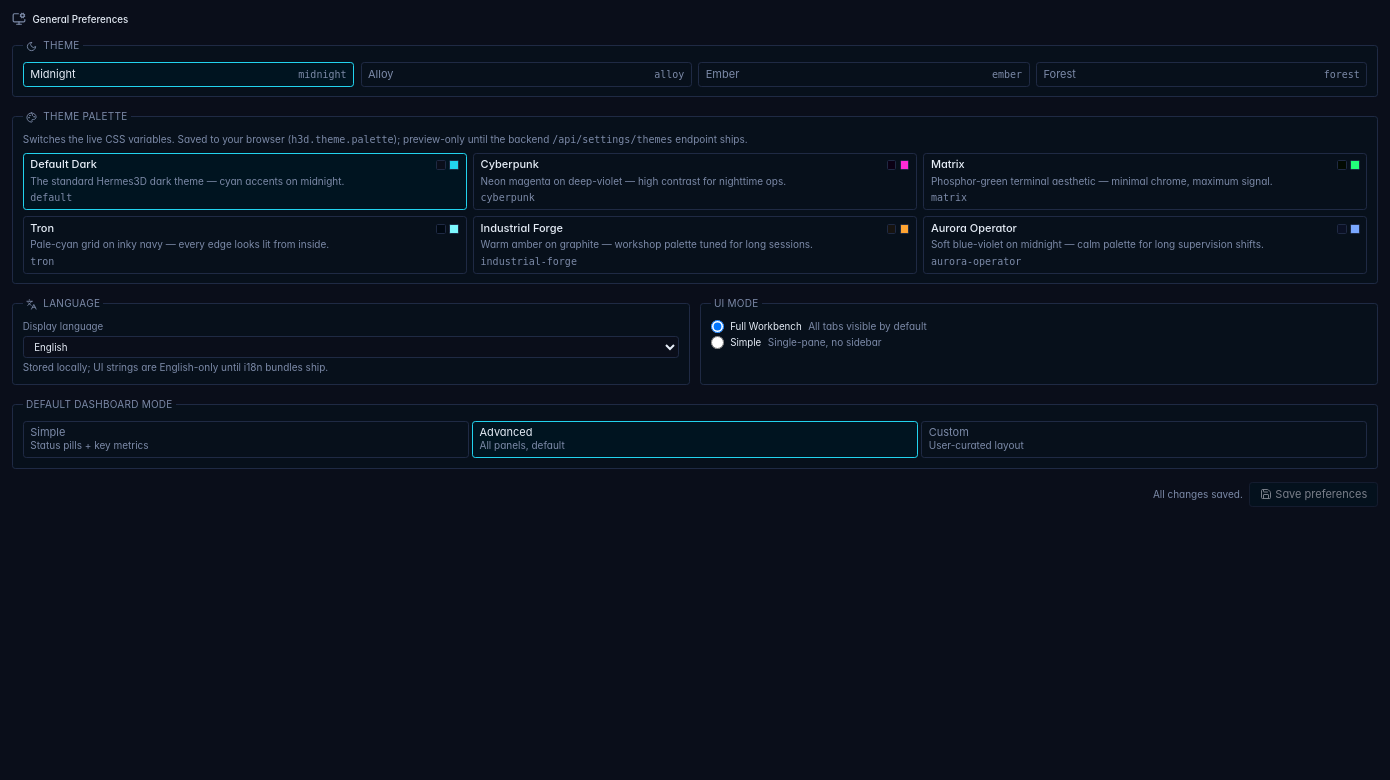
Test: GeneralSubtab › persists theme via saveSettings and writes prefs to localStorage
The image size is (1390, 780).
Expected: the button with test id "settings-general-save" is shown, [1249, 482, 1378, 507]
Click the radio button with test id "settings-general-theme-forest" at (1060, 74), box [1036, 62, 1367, 87]
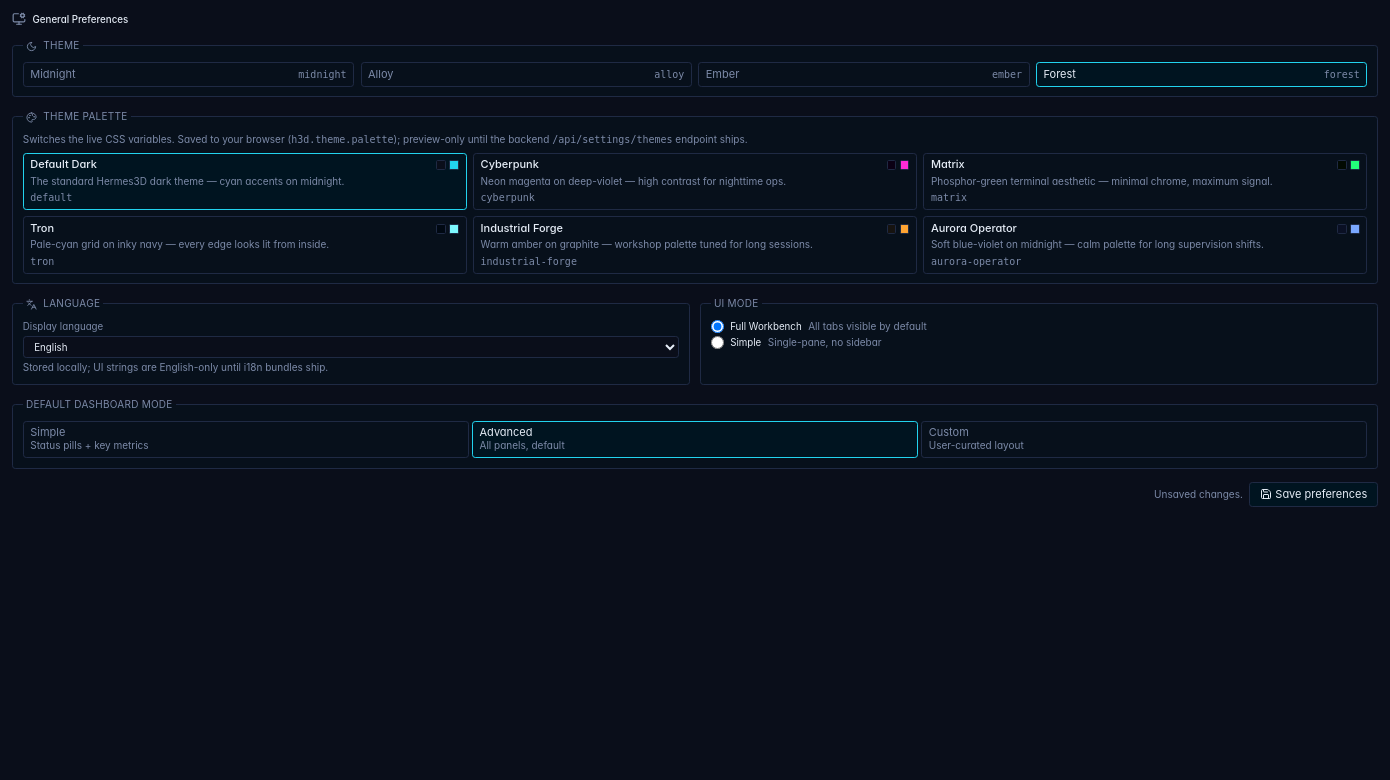
Select "Español" in the dropdown with test id "settings-general-language" at (351, 347), box [23, 336, 679, 358]
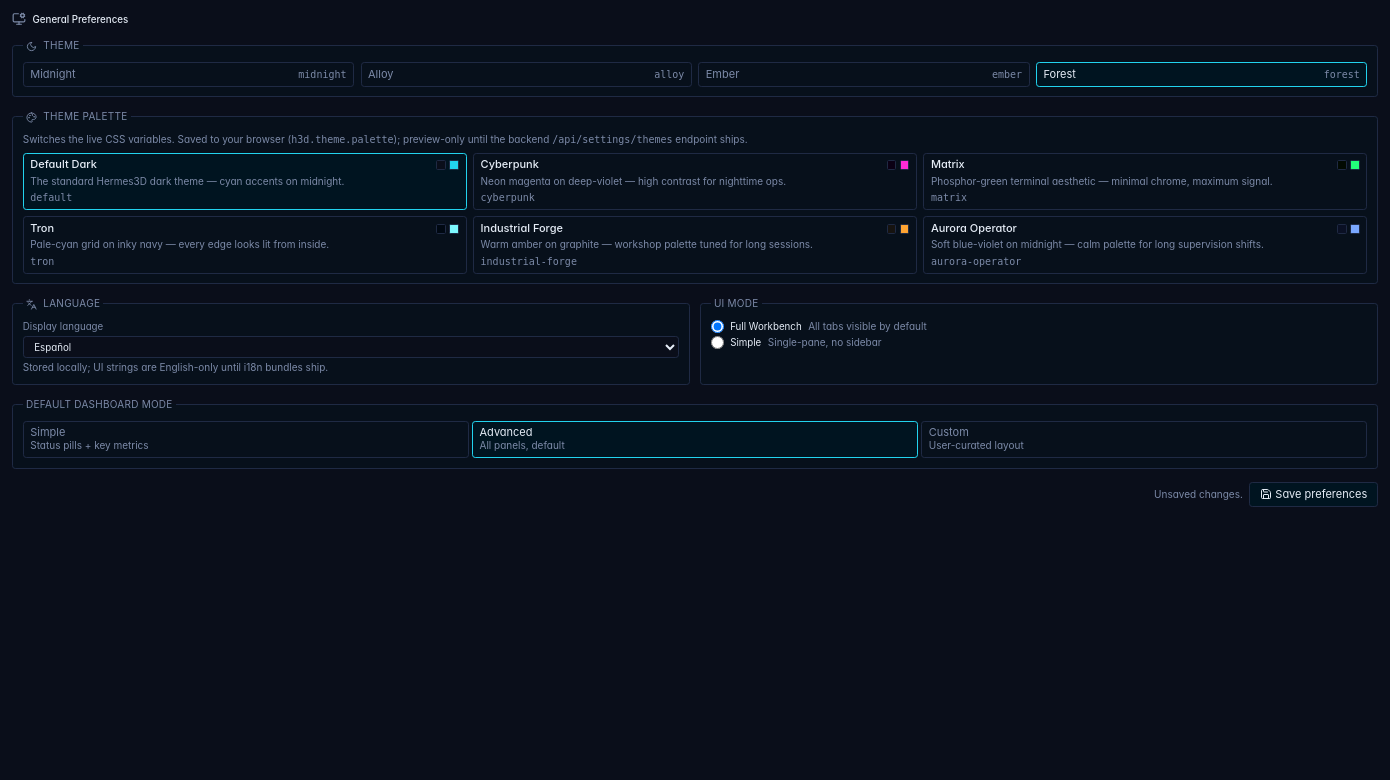
Click the button with test id "settings-general-save" at (1314, 494), box [1249, 482, 1378, 507]
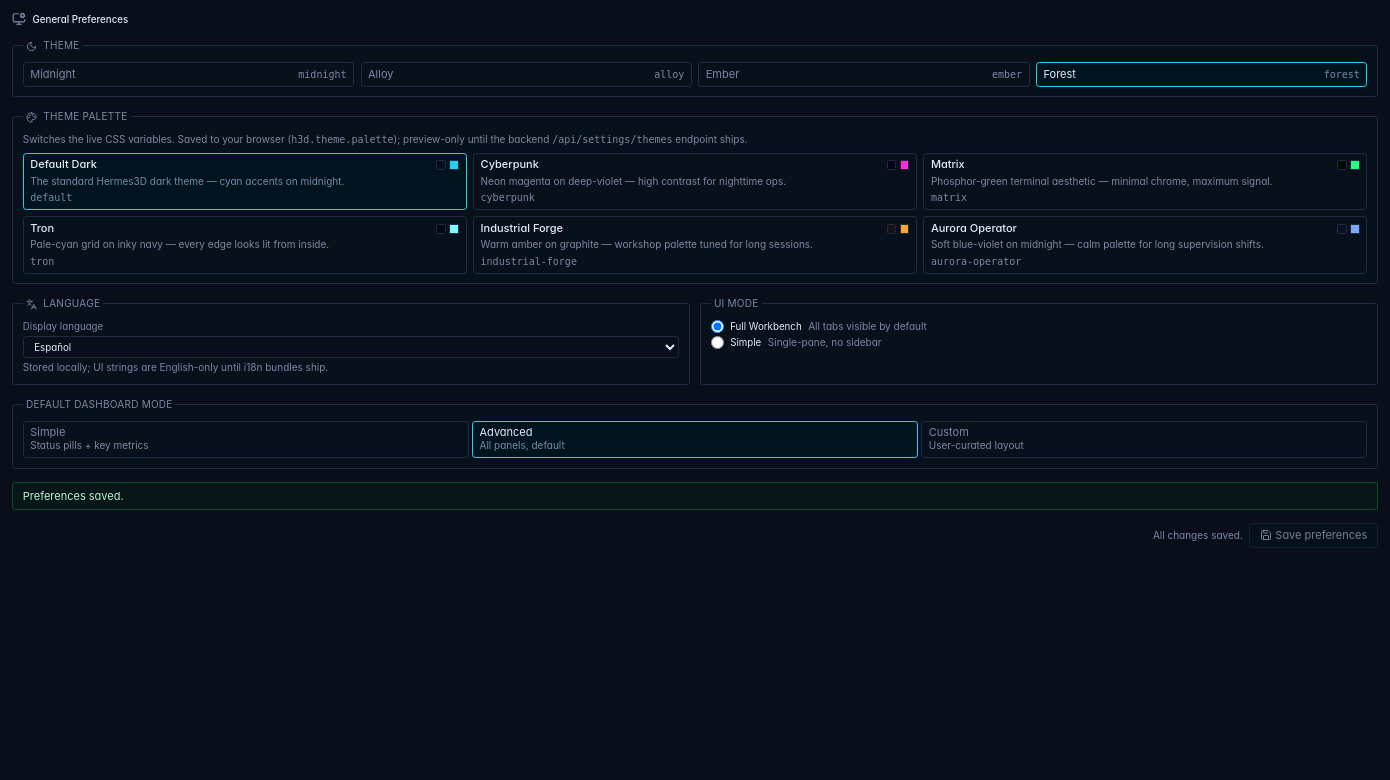
Expected: the message with test id "settings-general-status" reads "Preferences saved.", [23, 488, 124, 502]
